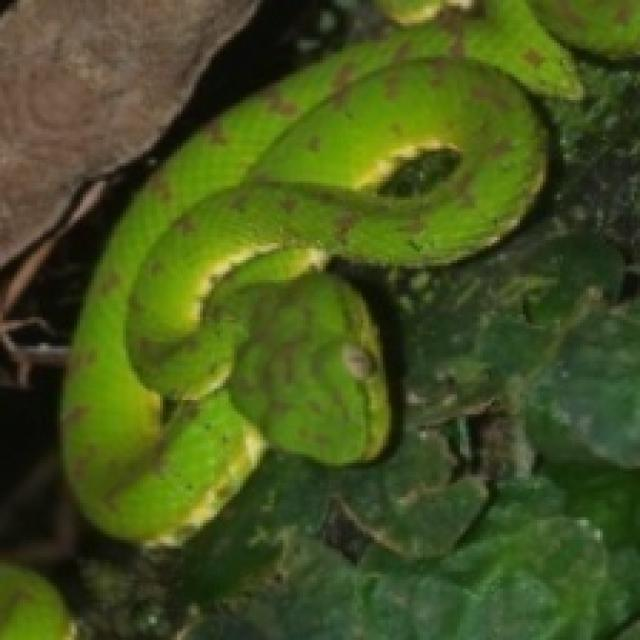philippine pitviper: (60, 0, 637, 543), (63, 0, 580, 543)
